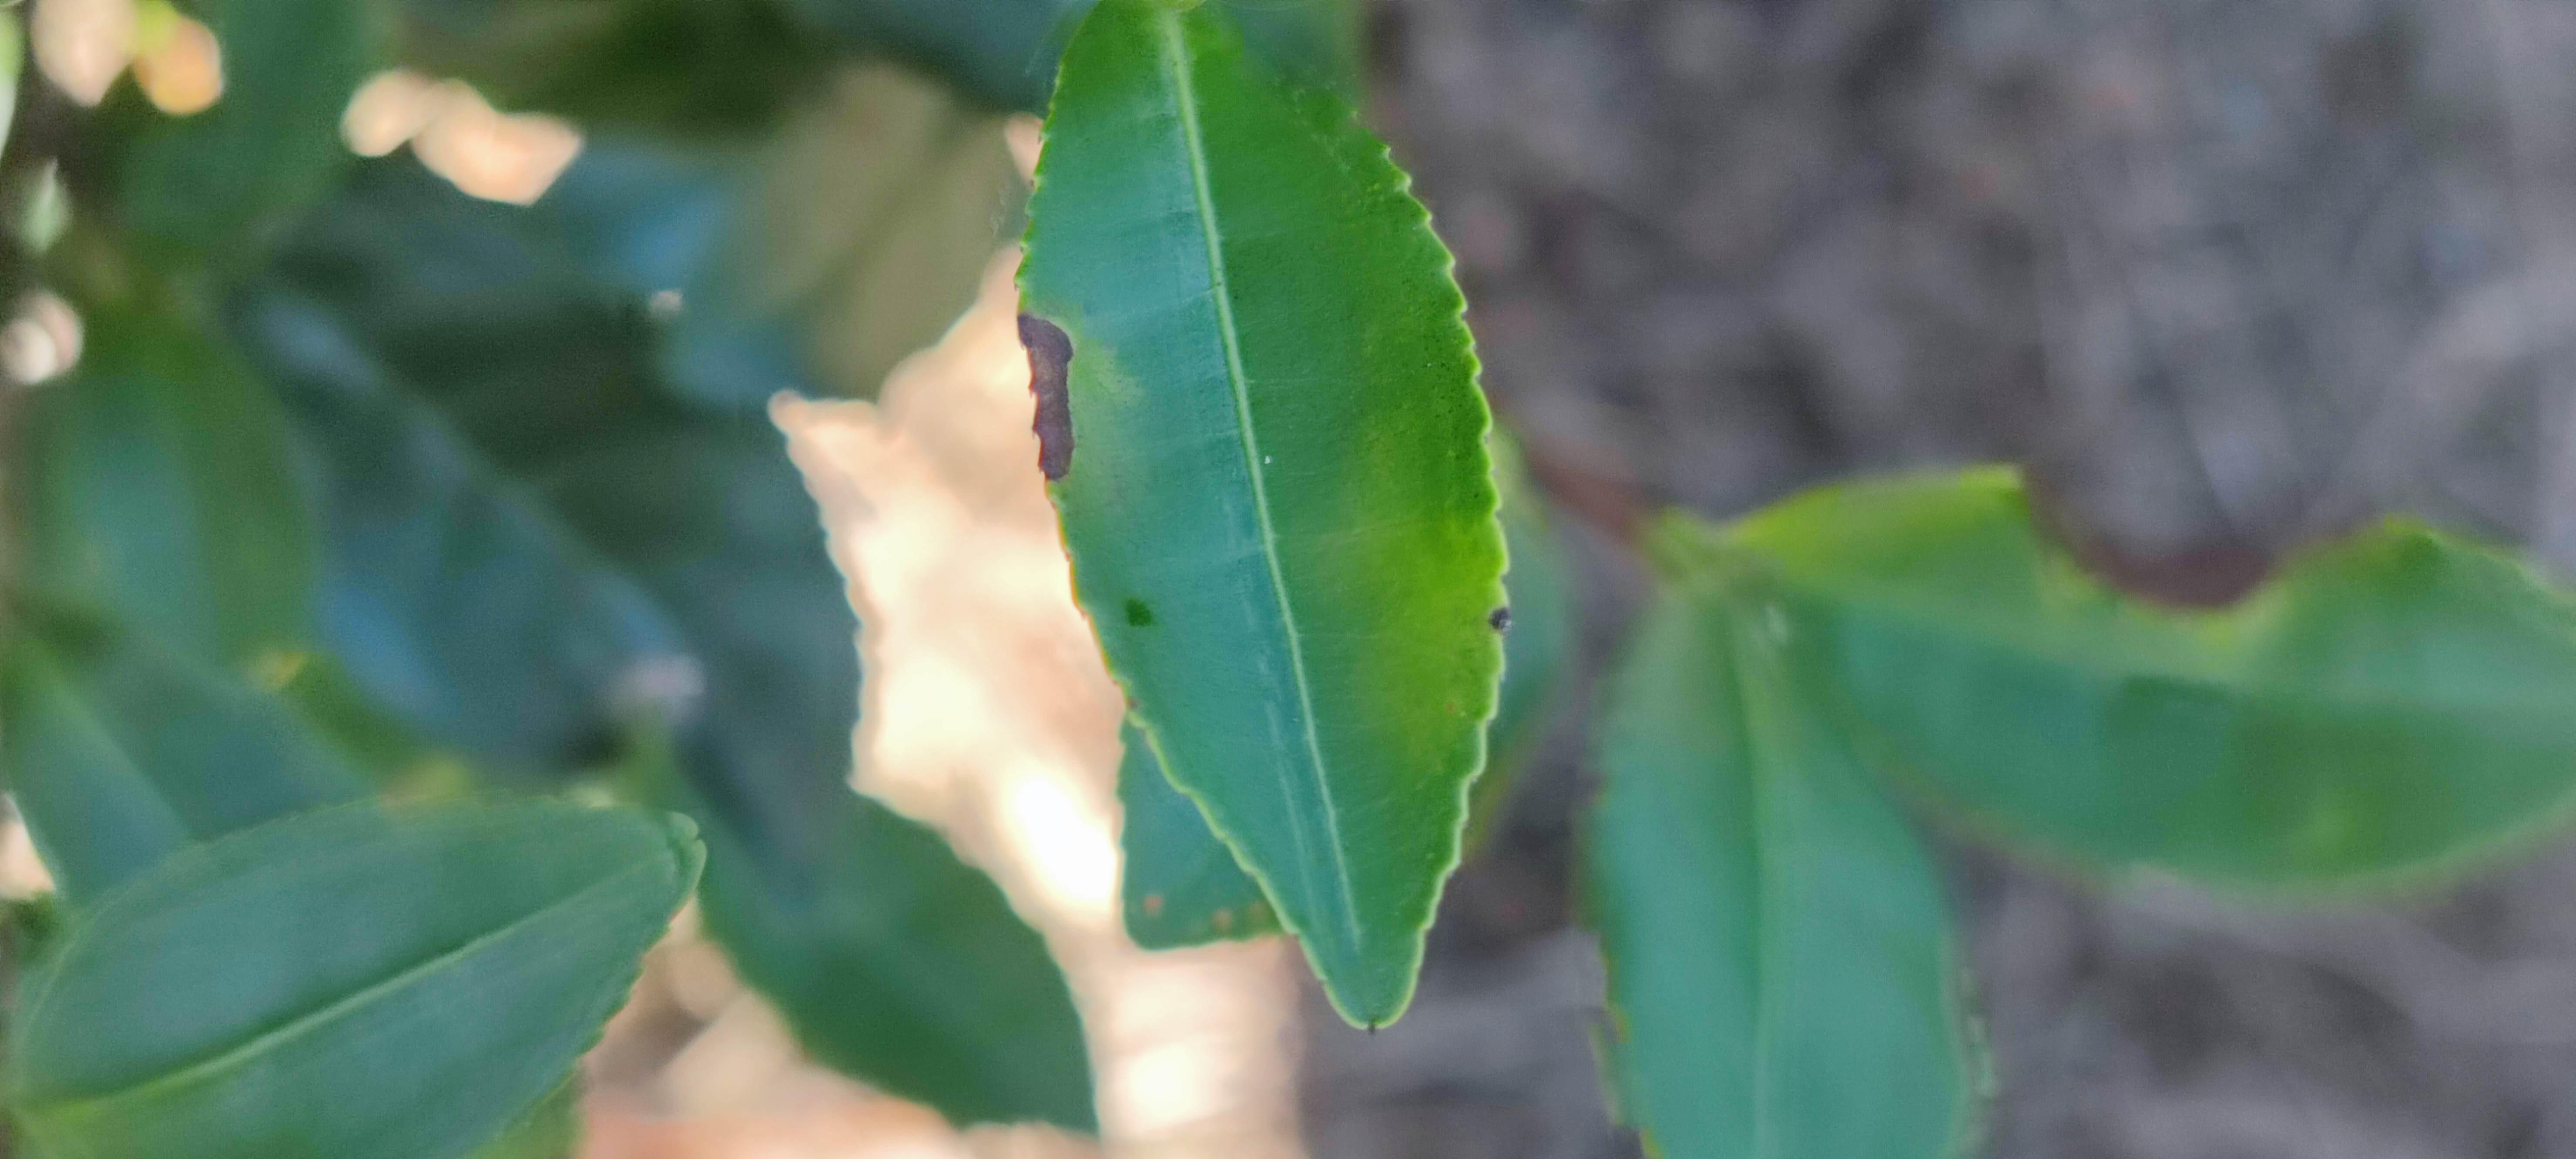healthy: (5, 783, 708, 1154)
tanju_high: (1009, 3, 1520, 1028), (1702, 458, 2574, 908)
